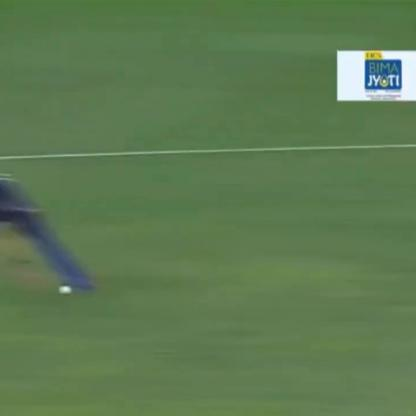ball: (57, 280, 76, 295)
